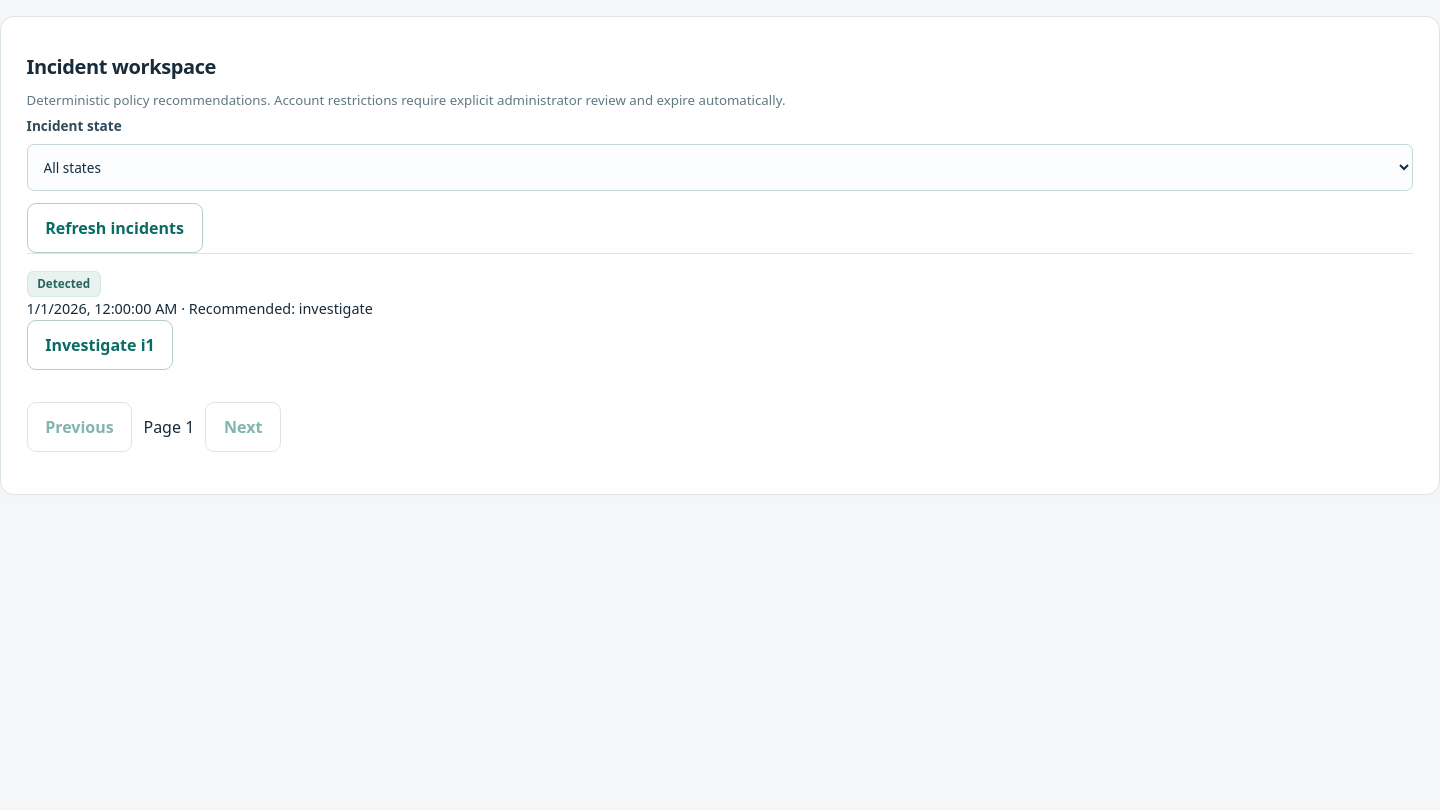
Scenario: incident action rejection is shown and does not claim success
Click the button "Investigate i1": (100, 345) [27,320,173,370]
(page scrolled)
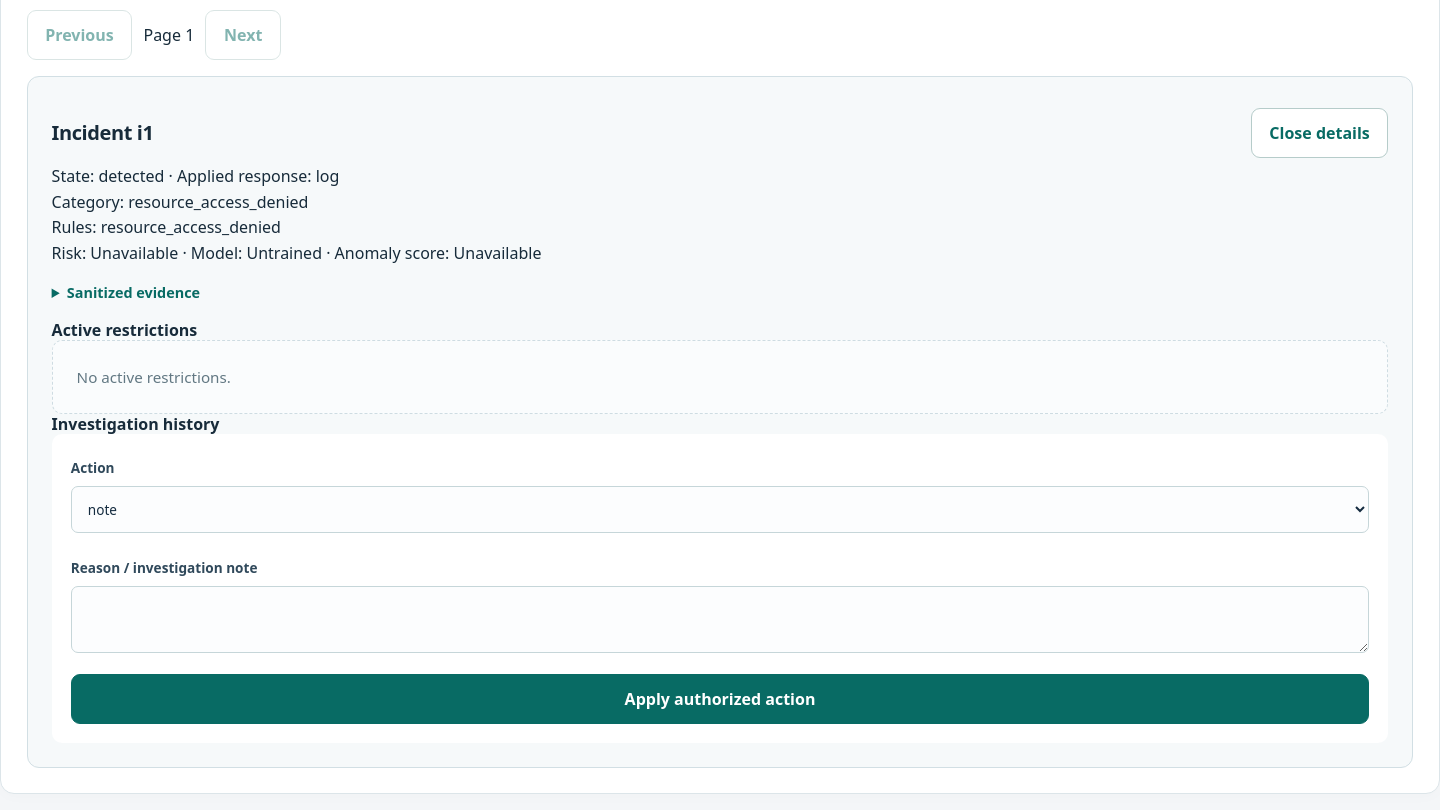
Check: the dropdown labelled "Action" is shown, box [71,486,1369,533]
In the text box labelled "Reason / investigation note": (720, 619) [71,586,1369,653], type "Synthetic investigation note"
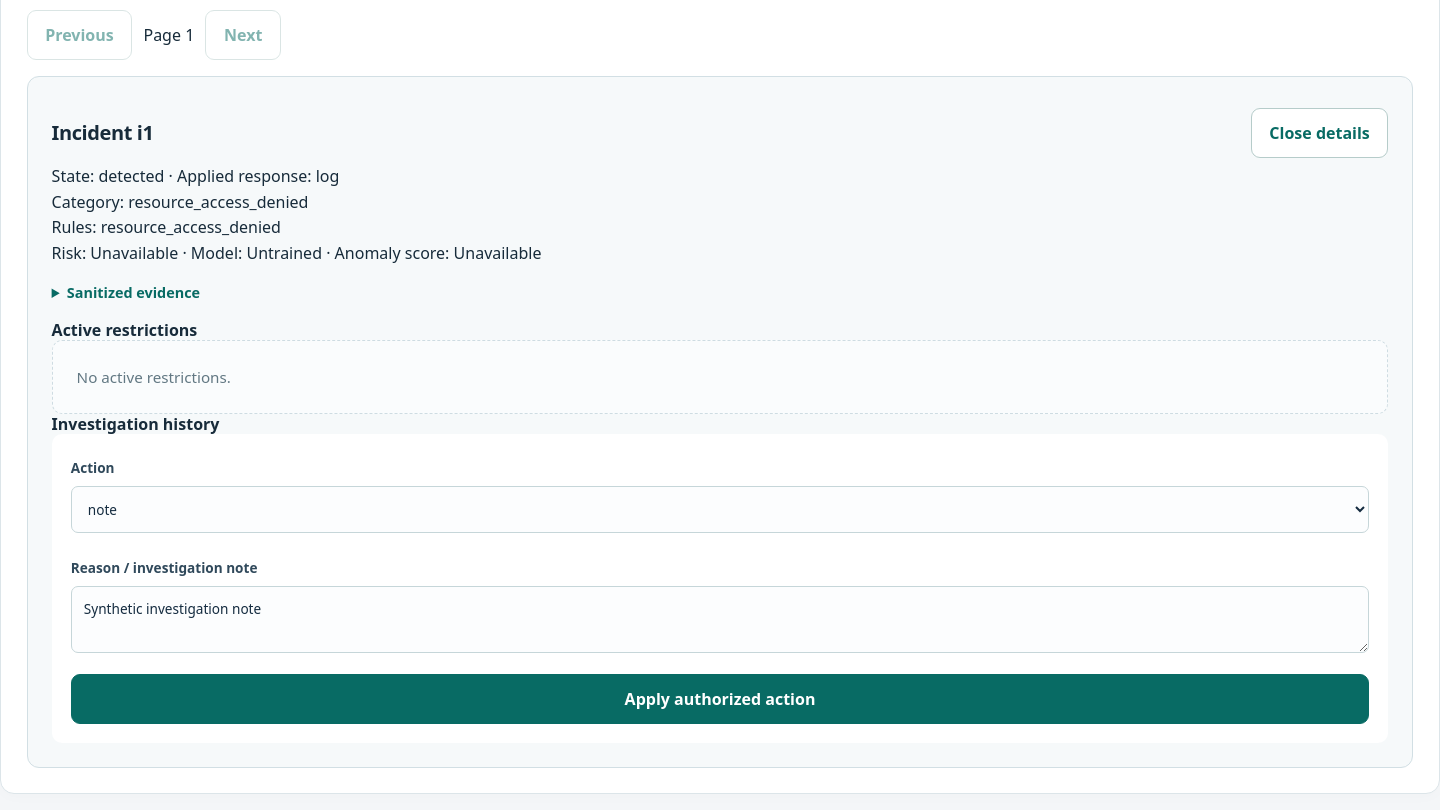
Click the button "Apply authorized action": (720, 698) [71,674,1369,724]
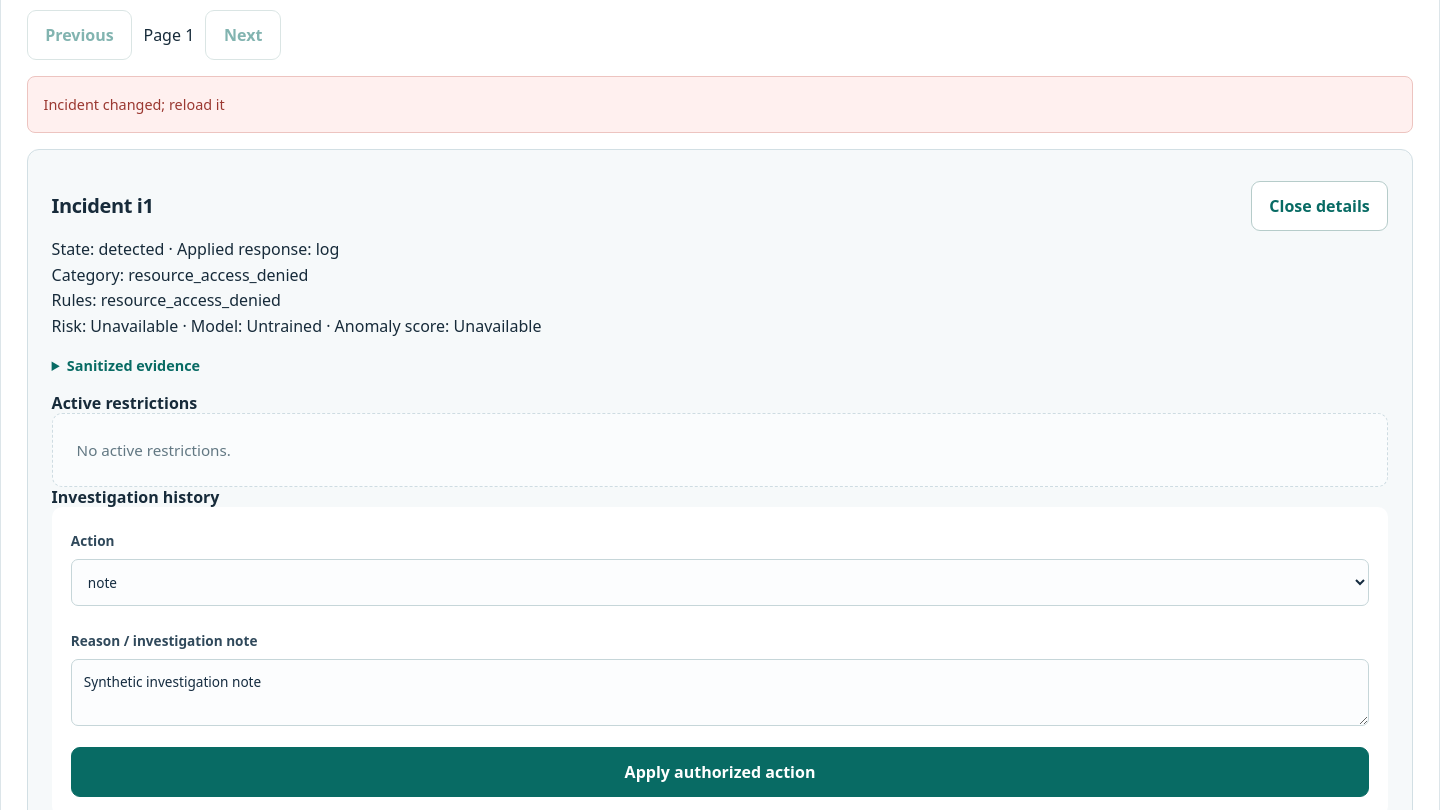
Check: the message shows "Incident changed", box [44,95,225,114]
